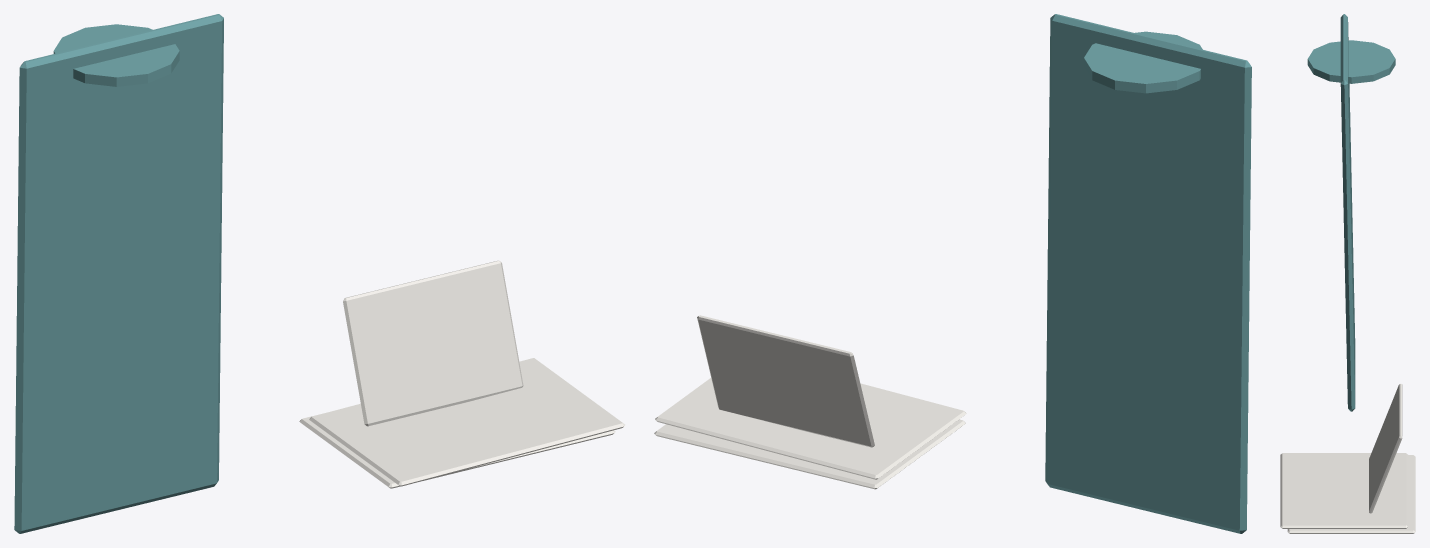
File: hotel-and-resort-operations-door-hanger-and-cards-e60700bf__25783.glb
The picture shows the model from 3 angles, left to right: view 1: azimuth 30°, elevation 25°; view 2: azimuth 150°, elevation 25°; view 3: azimuth 270°, elevation 25°; orthographic projection. The views are drawn at different scales.
Visible parts, largest first — view 1: door-hanger-and-cards; view 2: door-hanger-and-cards; view 3: door-hanger-and-cards.
Boxes of the visible parts, x1=… form: door-hanger-and-cards: x1=14, y1=14, x2=625, y2=533; door-hanger-and-cards: x1=654, y1=14, x2=1251, y2=533; door-hanger-and-cards: x1=1280, y1=14, x2=1415, y2=533.
Size of the model in its own units: 0.247 by 0.201 by 0.074.
